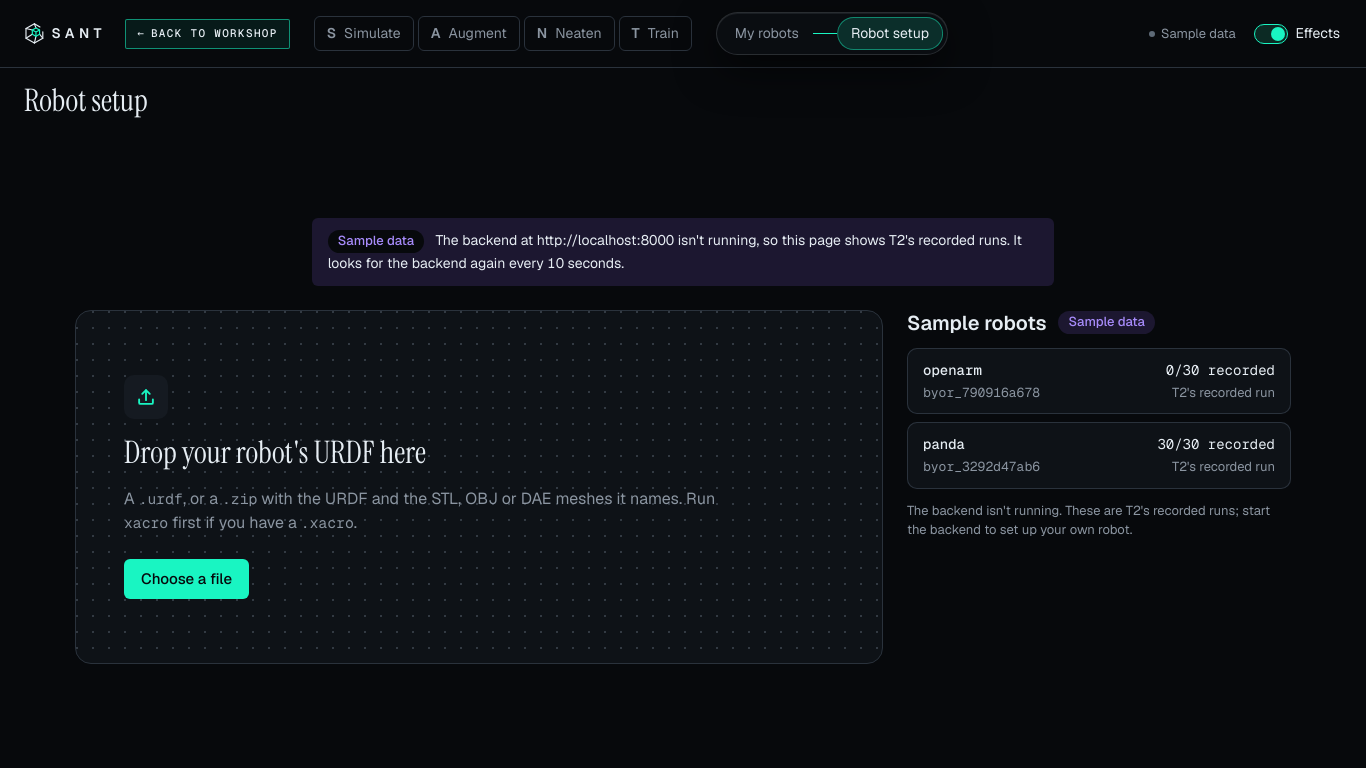
Test case: SetupPage › opens a recorded robot with the suggested roles pre-filled
Click the button "openarm 0/30 recorded byor_790916a678 T2's recorded run". click: (952, 370)
box: [907,348,1291,414]
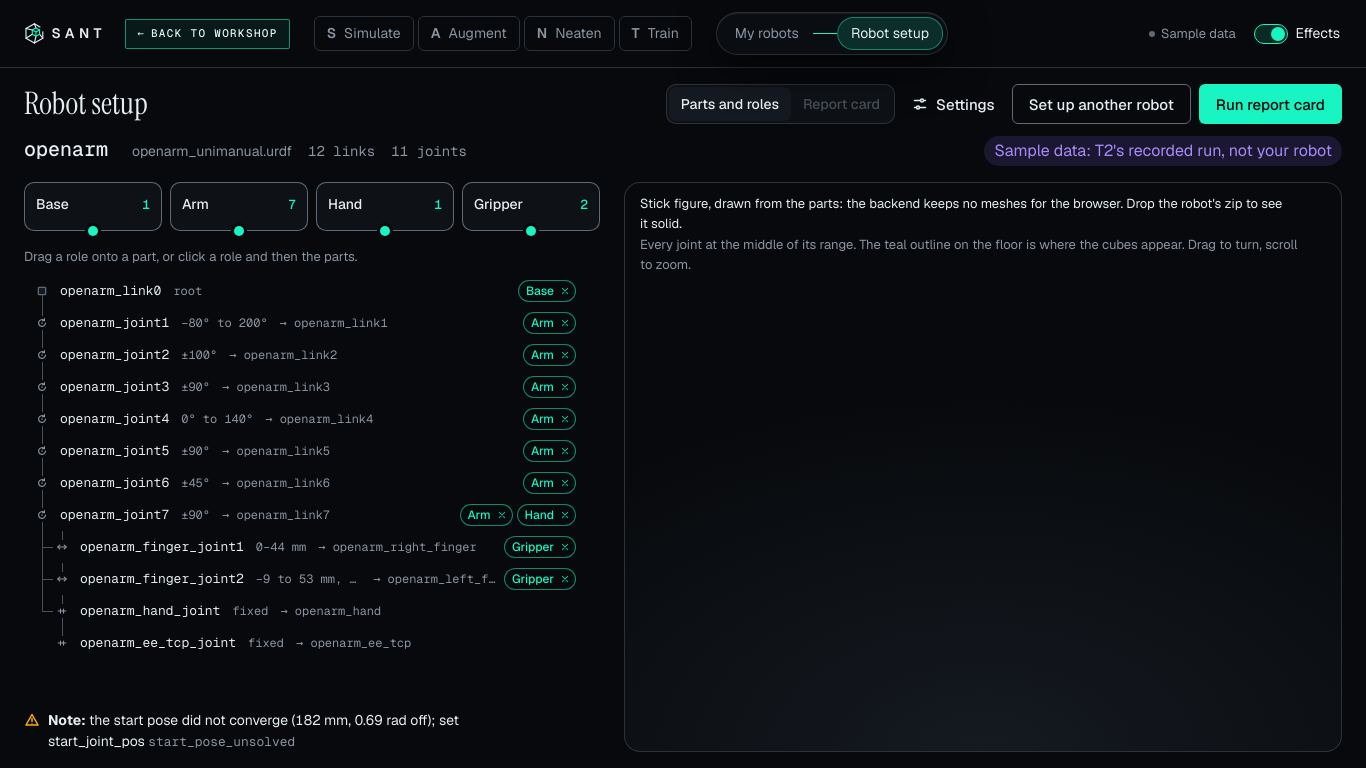
expect the heading "openarm" is shown: met, box [24,138,108,161]
expect the text "Base" is shown: met, box [518,280,576,302]
expect the 6th text "Arm" is shown: met, box [523,472,576,494]
